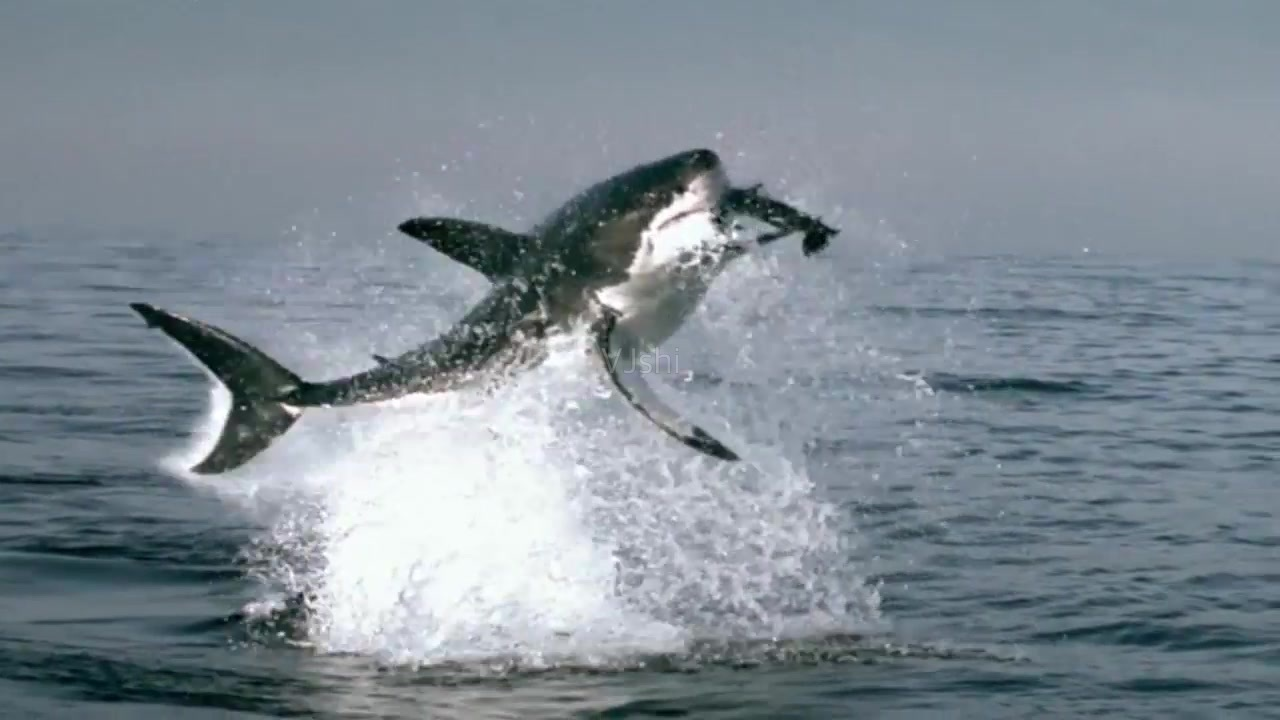fish: (118, 147, 825, 510)
